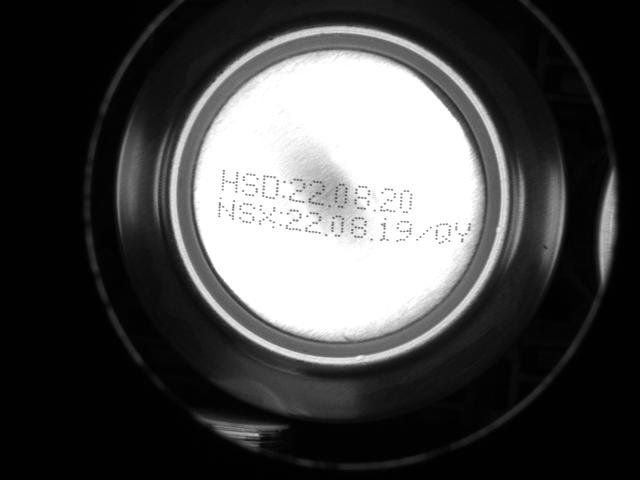.: (326, 193, 333, 210), (322, 220, 329, 237), (370, 195, 377, 212), (368, 225, 375, 242)
/: (415, 223, 433, 244)
0: (333, 181, 348, 209), (330, 210, 345, 238), (398, 187, 413, 215)
1: (378, 216, 391, 242)
2: (288, 177, 306, 203), (285, 205, 303, 231), (307, 179, 325, 205), (303, 209, 321, 235), (379, 186, 397, 212)
8: (353, 184, 371, 212), (349, 214, 367, 242)
9: (395, 218, 412, 244)
:: (281, 178, 287, 199), (277, 207, 283, 228)
D: (261, 173, 279, 201)
H: (219, 167, 239, 194)
N: (217, 195, 236, 222)
Q: (434, 219, 452, 248)
S: (241, 171, 260, 198), (237, 199, 256, 226)
X: (258, 203, 276, 231)
Y: (454, 219, 472, 247)
